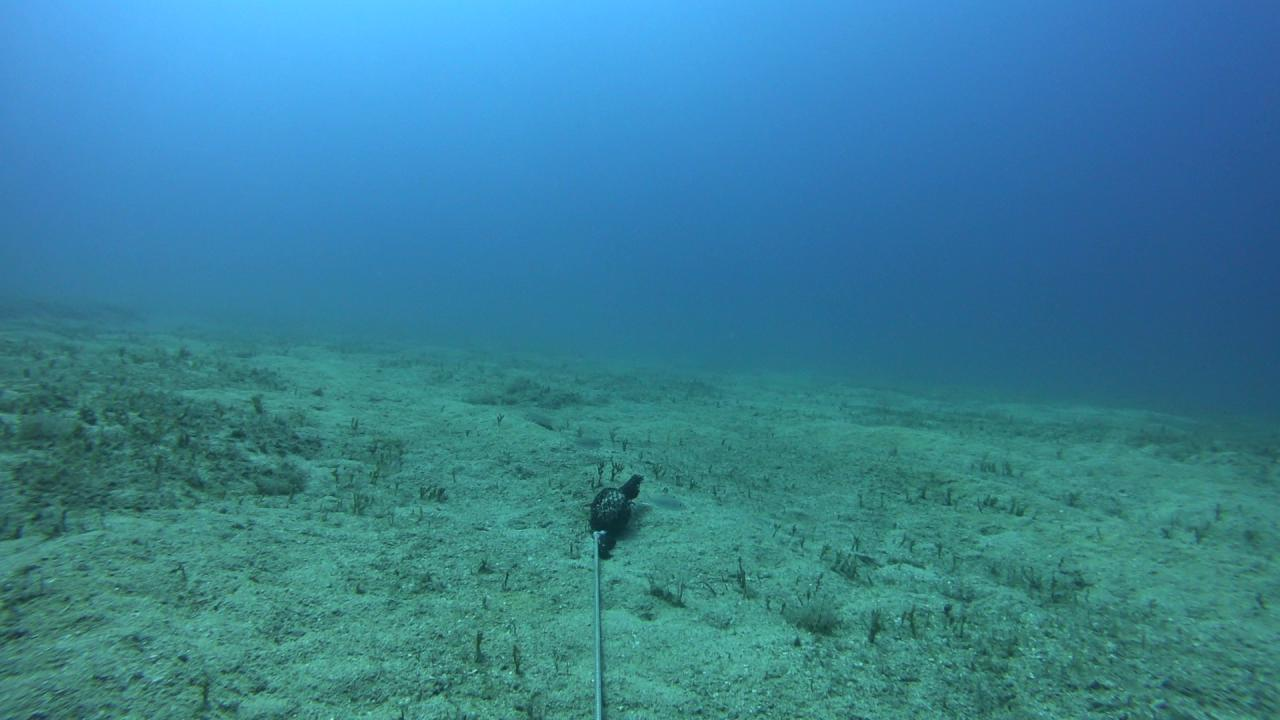pagellus: (640, 493, 687, 513)
